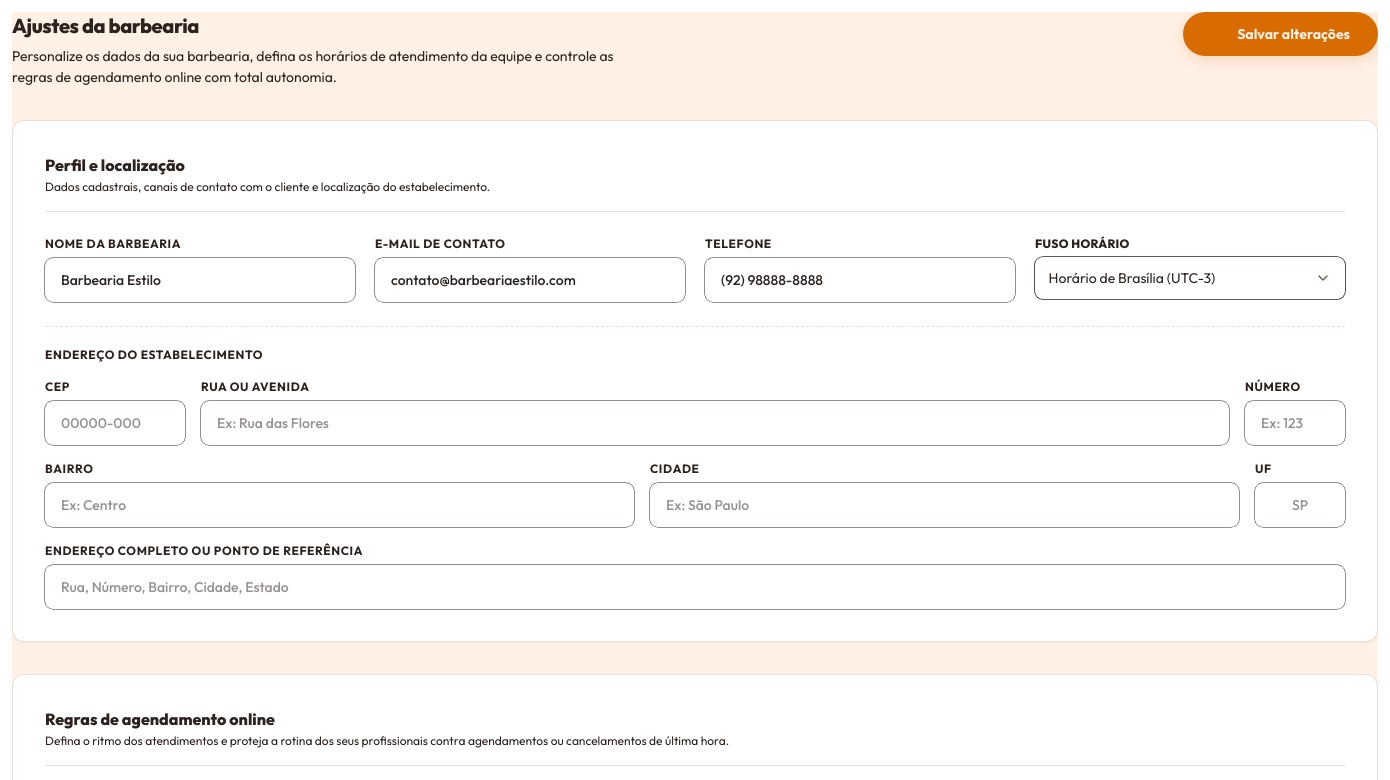
Test case: Configuracoes Page - TDD › sugere a correção de domínio digitado errado no e-mail de contato e aplica ao clicar
Expected: the field labelled "Nome da barbearia" is shown, [45, 258, 355, 302]
Replace the text in the field labelled "E-mail de contato" with "contato@gmial.com" at coordinates (530, 280), box [375, 258, 685, 302]
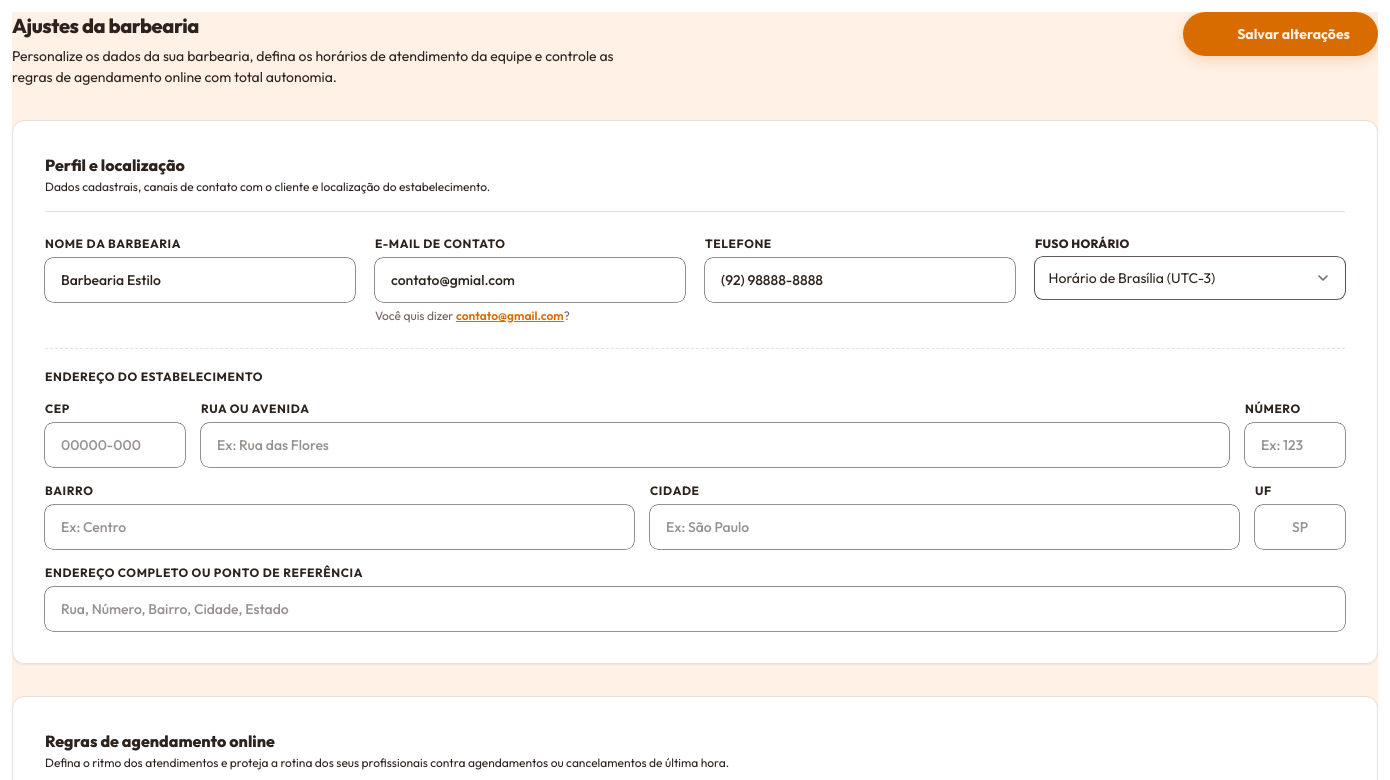
Click the button "contato@gmail.com" at coordinates (510, 316), box [456, 308, 564, 324]
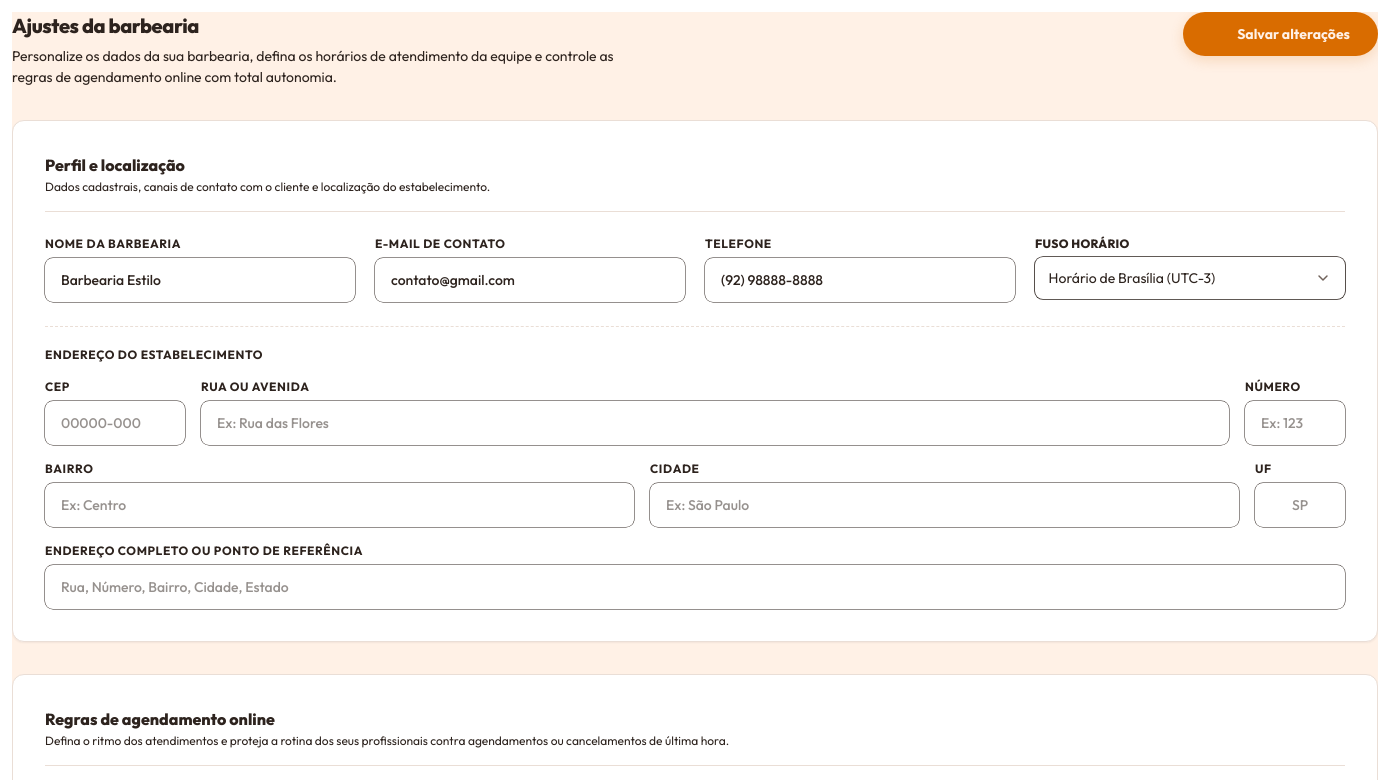
Result: the field labelled "E-mail de contato" holds "contato@gmail.com" at [375, 258, 685, 302]
